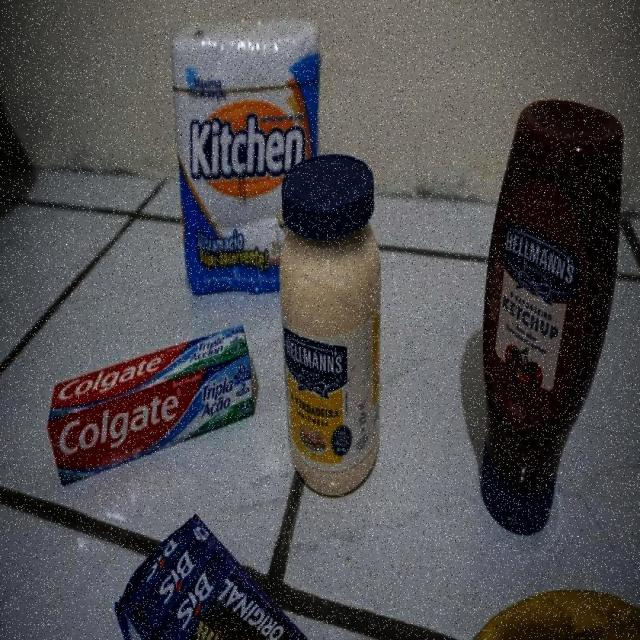Banana: (453, 589, 640, 640)
Ketchup: (481, 98, 624, 535)
Mayonnaise: (279, 154, 382, 498)
Napkin: (171, 22, 321, 294)
Toothpaste: (49, 326, 255, 486)
